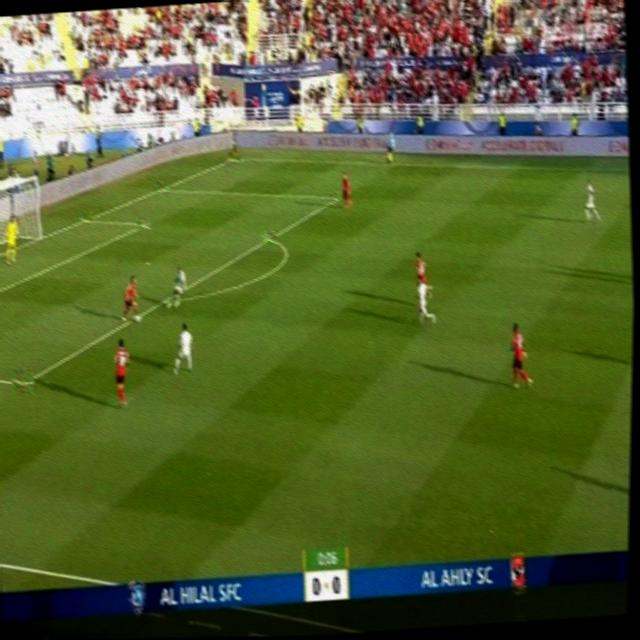bigarea_bottom_inner: (11, 367, 35, 395)
bigarea_top_inner: (327, 189, 343, 206)
bigarea_top_outter: (154, 180, 169, 195)
corner: (225, 151, 241, 163)
smallarea_top_inner: (136, 216, 151, 229)
smallarea_top_outter: (78, 210, 93, 225)
top_arc_area_intersection: (260, 228, 278, 245)
